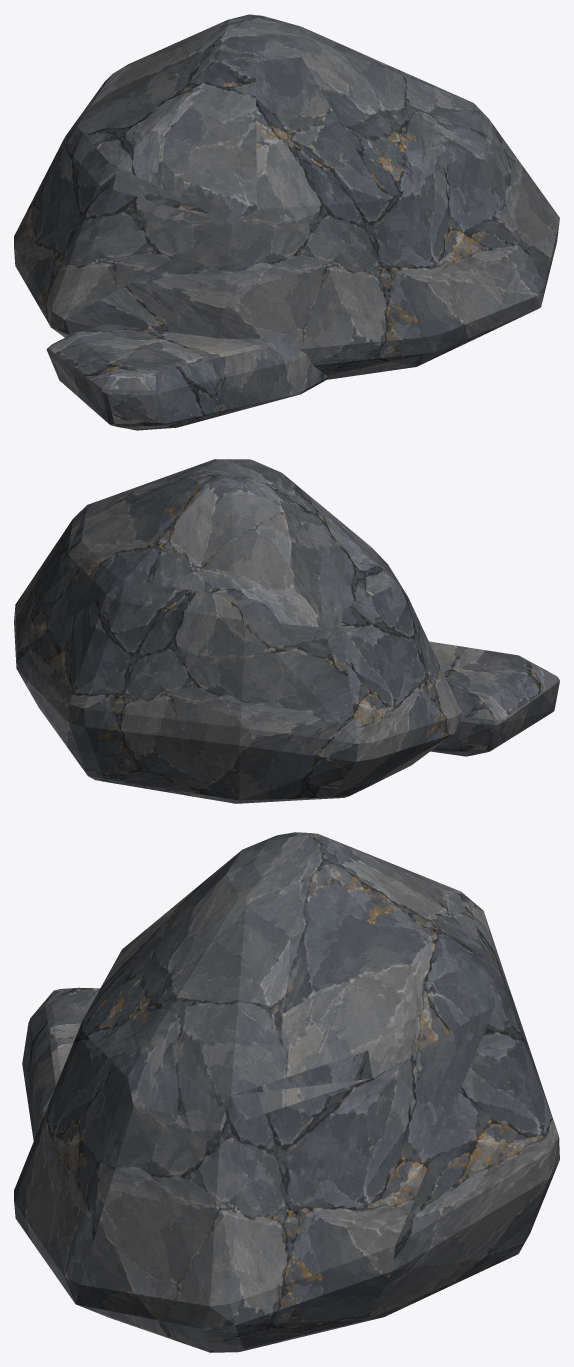
The model's file is Cave_R04_BrokenWedge.fbx.
The picture shows the model from 3 angles, top to bottom: view 1: azimuth 30°, elevation 25°; view 2: azimuth 150°, elevation 25°; view 3: azimuth 270°, elevation 25°; orthographic projection. The views are drawn at different scales.
Visible parts, largest first — view 1: Cave_R04_BrokenWedge_LOD0; view 2: Cave_R04_BrokenWedge_LOD0; view 3: Cave_R04_BrokenWedge_LOD0.
Boxes of the visible parts, x1,y1,x2,y2 form: Cave_R04_BrokenWedge_LOD0: [14, 14, 559, 430]; Cave_R04_BrokenWedge_LOD0: [14, 459, 559, 803]; Cave_R04_BrokenWedge_LOD0: [14, 832, 559, 1352].
Size of what is drawn, in the model's own units: 2.33 by 1.24 by 1.67.
Materials: 1 (1 with a texture image).
